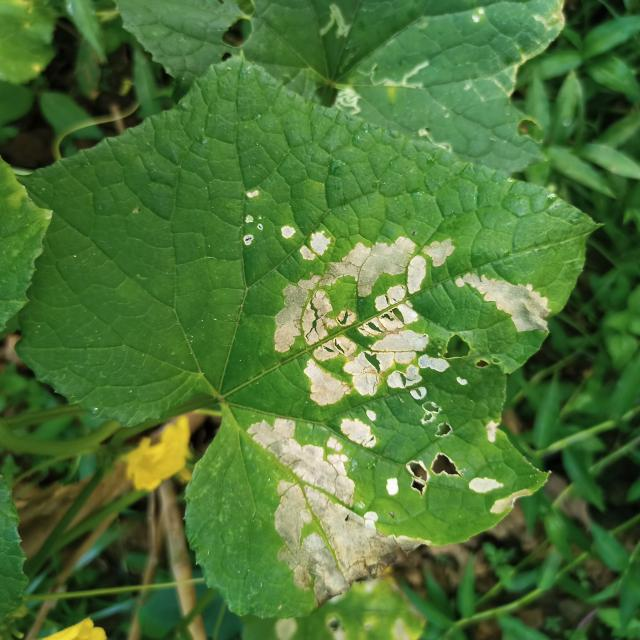disease_cucumber: (238, 411, 530, 599), (274, 222, 552, 412), (235, 186, 272, 253)
